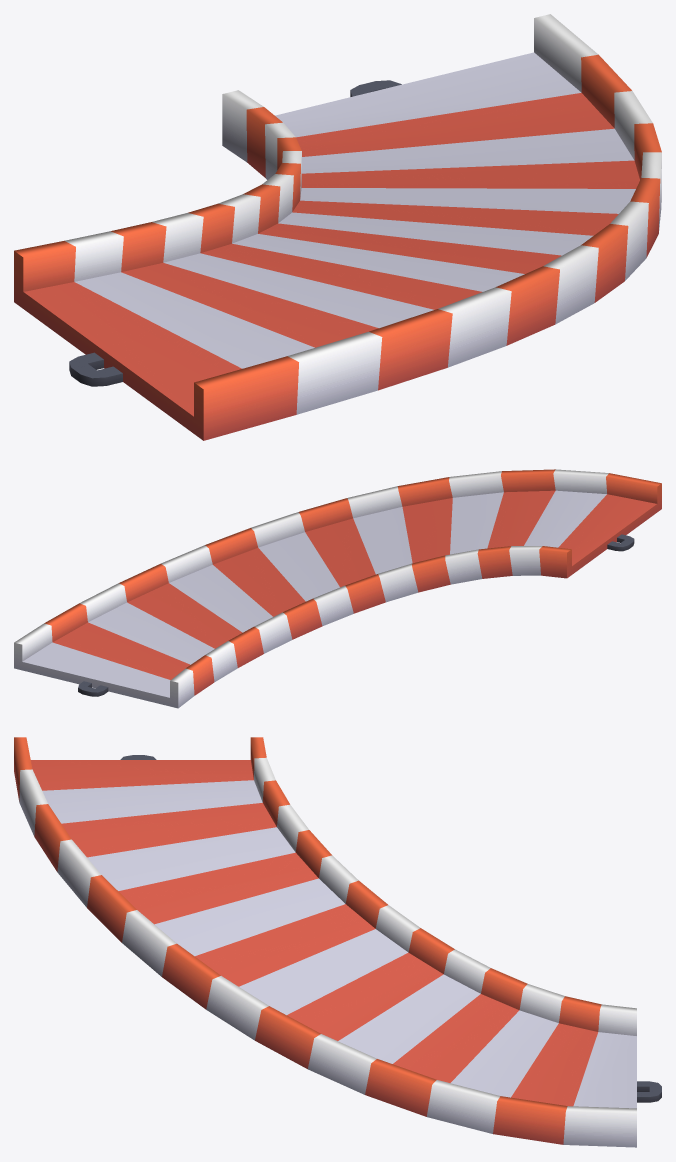
Rendered from track-striped-wide-corner-large-ramp.glb.
3 renders of one model, top to bottom at view 1: azimuth 30°, elevation 25°; view 2: azimuth 150°, elevation 25°; view 3: azimuth 270°, elevation 25°, orthographic. The views are drawn at different scales.
Visible parts, largest first — view 1: track-striped-wide-corner-large-ramp; view 2: track-striped-wide-corner-large-ramp; view 3: track-striped-wide-corner-large-ramp.
Boxes of the visible parts, box(x1,y1,x2,y2) form: track-striped-wide-corner-large-ramp: box(14, 14, 661, 440); track-striped-wide-corner-large-ramp: box(14, 469, 661, 708); track-striped-wide-corner-large-ramp: box(14, 737, 661, 1147).
Size of the model in its own units: 5.2 by 1.3 by 5.2.
Materials: 1 (1 with a texture image).
